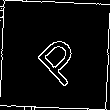P_NW: (24, 24, 86, 86)
